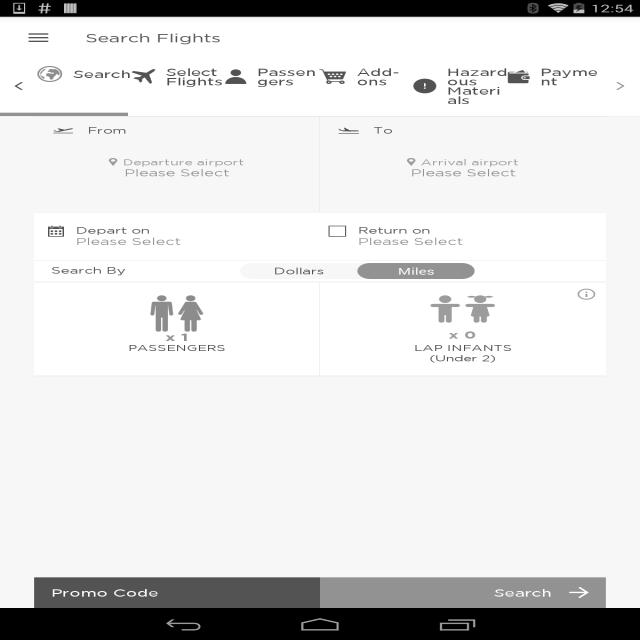ImageButton: (9, 17, 68, 59)
ImageView: (567, 282, 606, 306), (319, 69, 346, 84), (38, 66, 62, 82), (131, 69, 155, 84), (225, 69, 246, 84), (414, 79, 436, 93), (38, 128, 88, 134), (324, 128, 374, 134), (508, 70, 530, 83), (329, 226, 346, 237), (48, 226, 64, 237), (616, 82, 624, 90), (15, 82, 22, 90)
Switch: (240, 263, 475, 279)
TextView: (34, 126, 320, 212), (320, 126, 606, 212), (34, 577, 320, 608), (320, 577, 606, 608), (430, 295, 495, 345), (34, 167, 320, 178), (320, 167, 606, 178), (436, 66, 508, 106), (150, 295, 203, 345), (358, 238, 606, 246), (76, 238, 320, 246), (86, 31, 222, 45), (357, 263, 475, 279), (240, 263, 357, 279), (51, 260, 126, 282), (246, 66, 319, 87), (530, 66, 602, 87), (155, 66, 225, 87), (346, 66, 413, 87), (109, 157, 244, 167), (407, 157, 519, 167), (62, 68, 132, 80), (128, 345, 226, 352), (414, 345, 512, 352), (76, 227, 150, 235), (358, 227, 430, 235), (429, 355, 496, 363), (87, 127, 127, 135), (373, 127, 392, 135)
